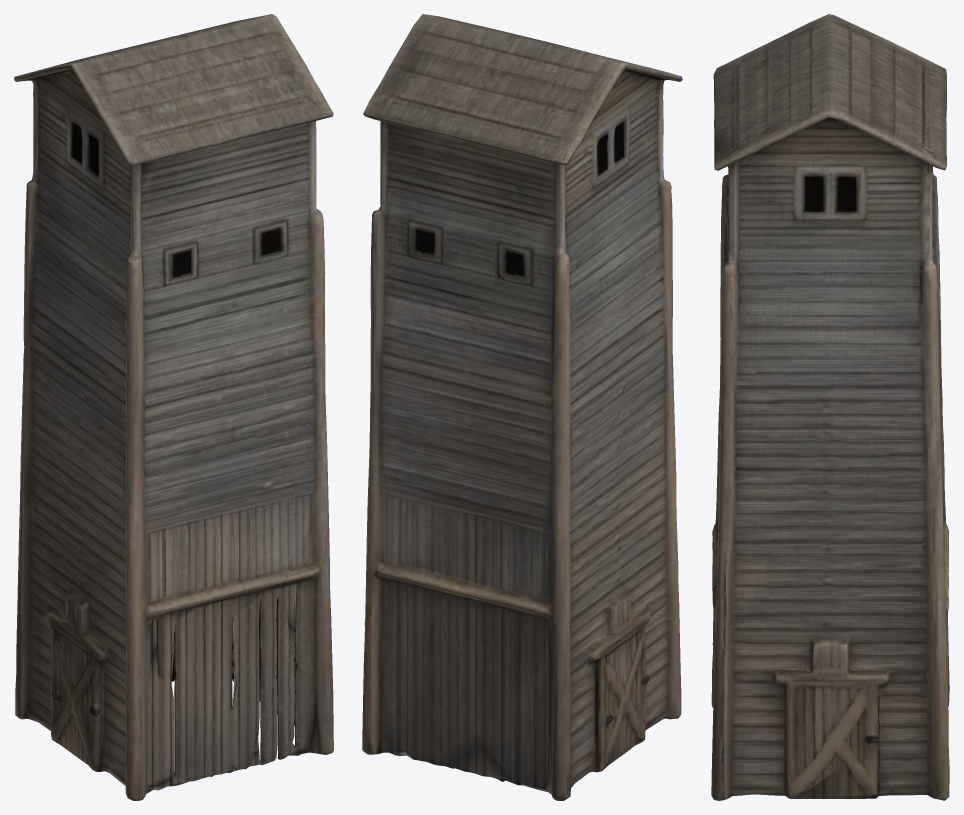
File: grain_elevator.glb
3 renders of one model, left to right at view 1: azimuth 30°, elevation 25°; view 2: azimuth 150°, elevation 25°; view 3: azimuth 270°, elevation 25°, orthographic.
Size of the model in its own units: 0.3177 by 1 by 0.3134.
Materials: 1 (1 with a texture image).
